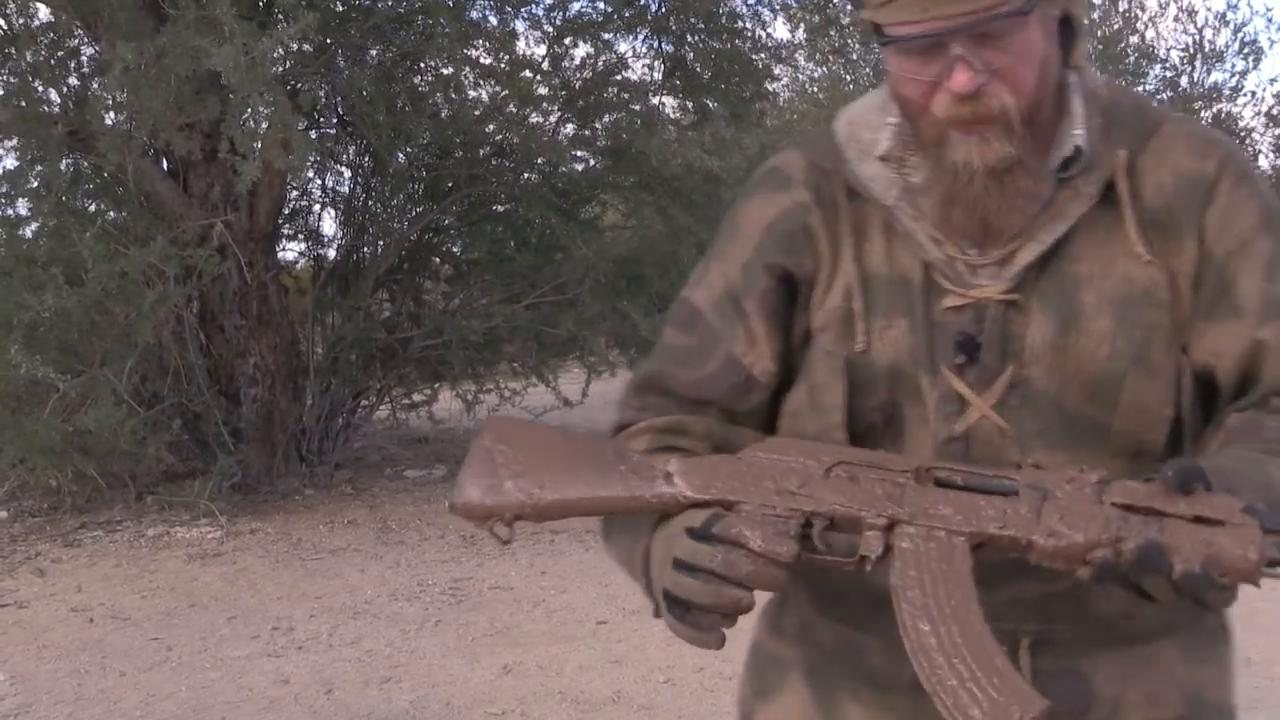AK47 Rifle: (449, 415, 1280, 719)
